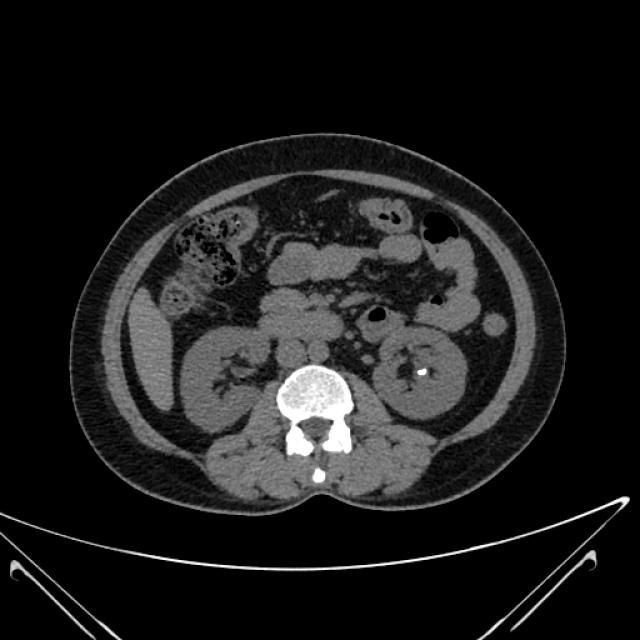kidney: (182, 328, 256, 427), (384, 328, 461, 416)
stone: (418, 368, 427, 377)
